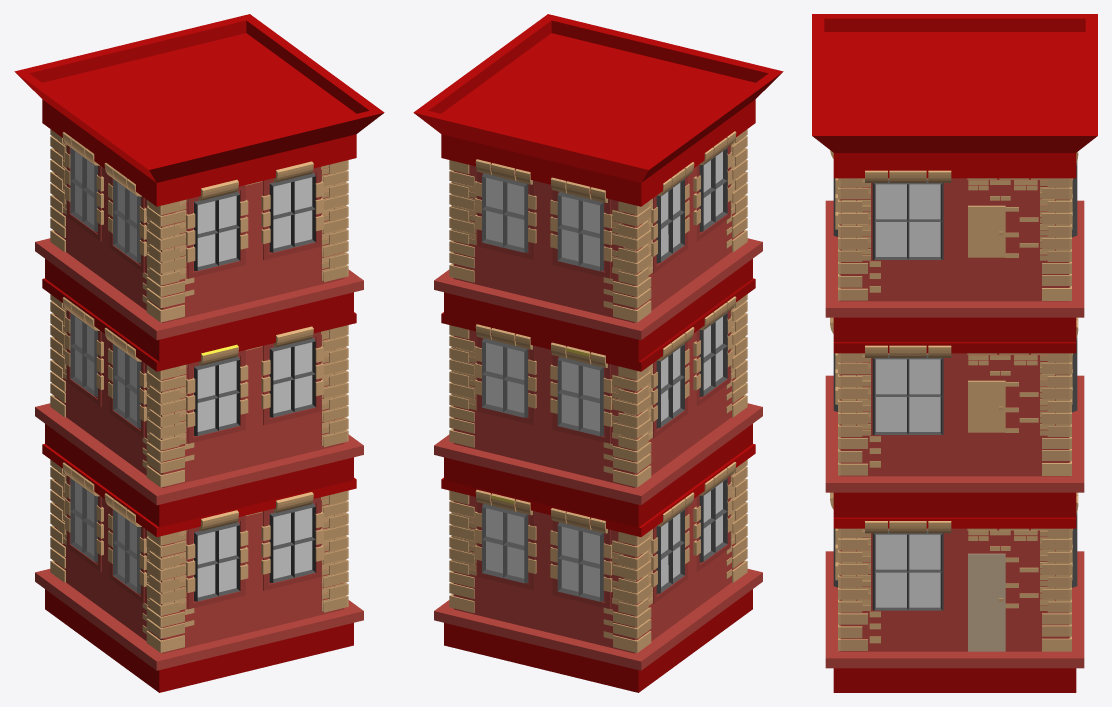
File: House_35.fbx
3 renders of one model, left to right at view 1: azimuth 30°, elevation 25°; view 2: azimuth 150°, elevation 25°; view 3: azimuth 270°, elevation 25°, orthographic. The views are drawn at different scales.
Visible parts, largest first — view 1: House_35_Body; view 2: House_35_Body; view 3: House_35_Body.
Part boxes in pixels (x1,y1,x2,y2): House_35_Body: (14,14,384,692); House_35_Body: (413,14,783,692); House_35_Body: (812,14,1097,692).
Bounding box in the file's own units: 566 × 1228 × 561.
